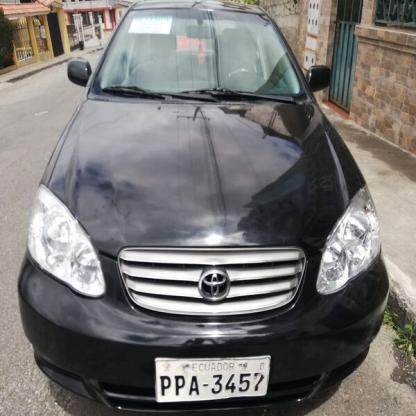Placa: (150, 352, 272, 404)
